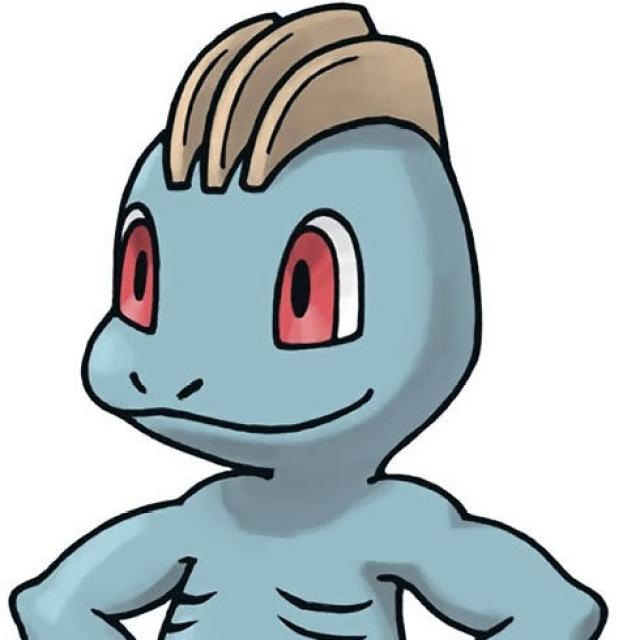Machop: (60, 0, 551, 640)
